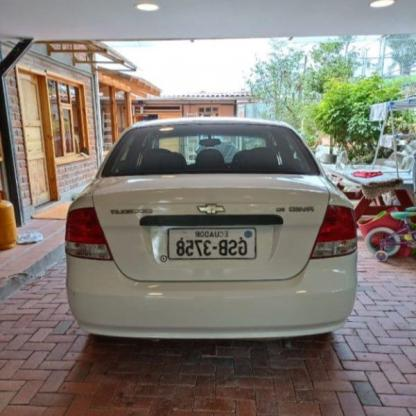Placa: (163, 226, 256, 260)
